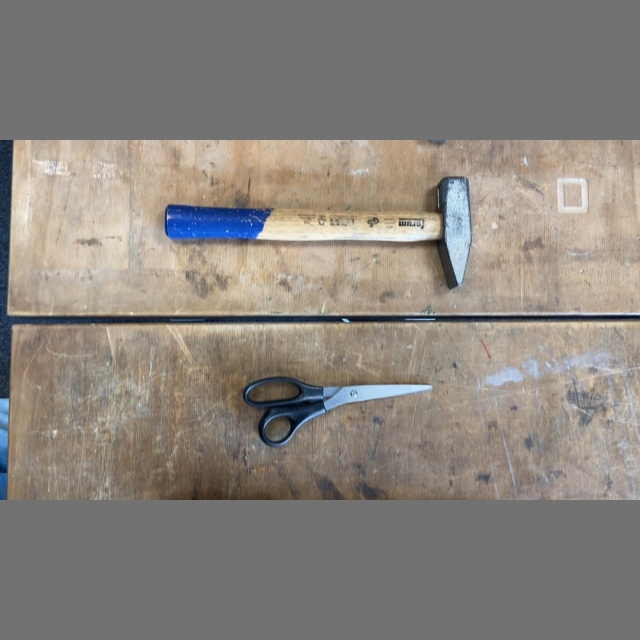scissor: (237, 369, 437, 451)
